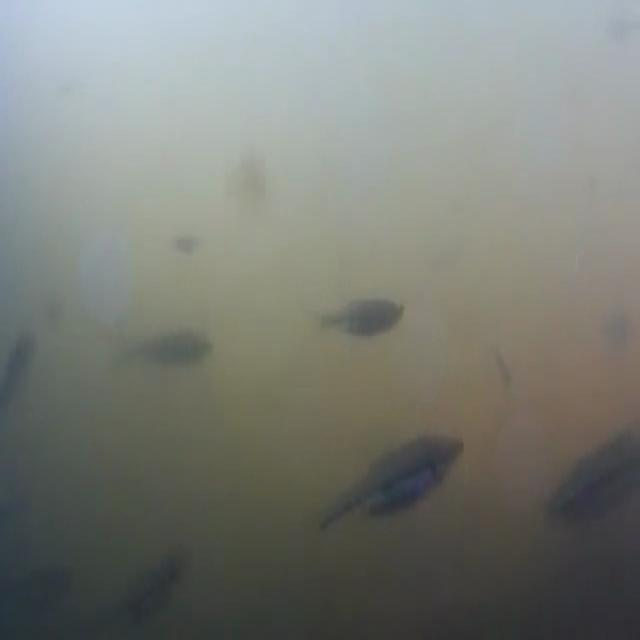Cakil Baligi: (311, 424, 471, 544)
